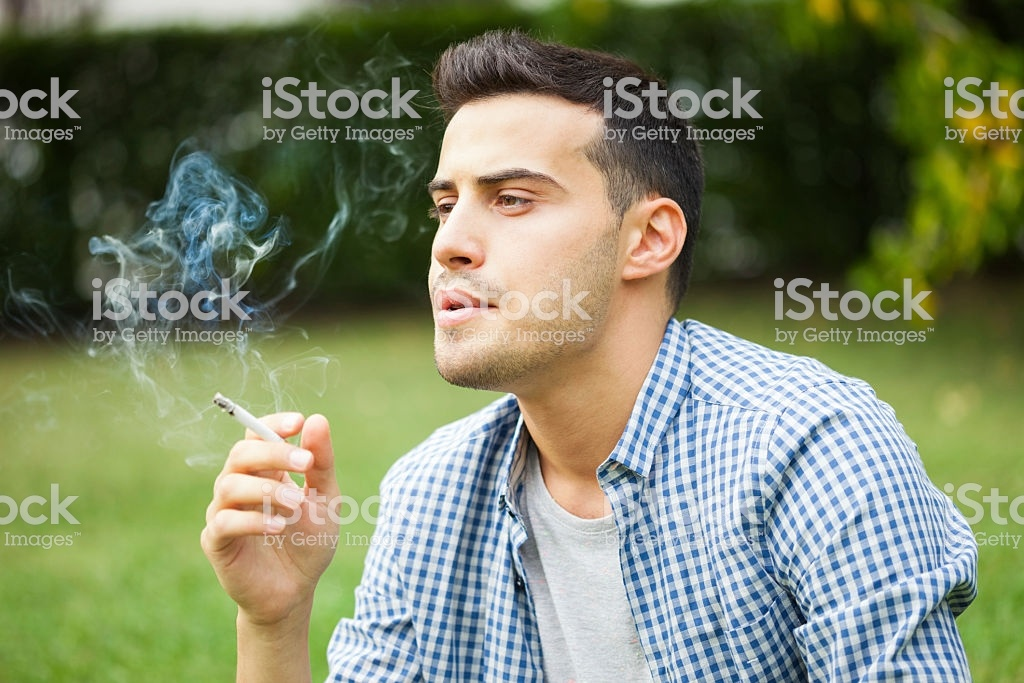sigaretta: (212, 389, 312, 461)
